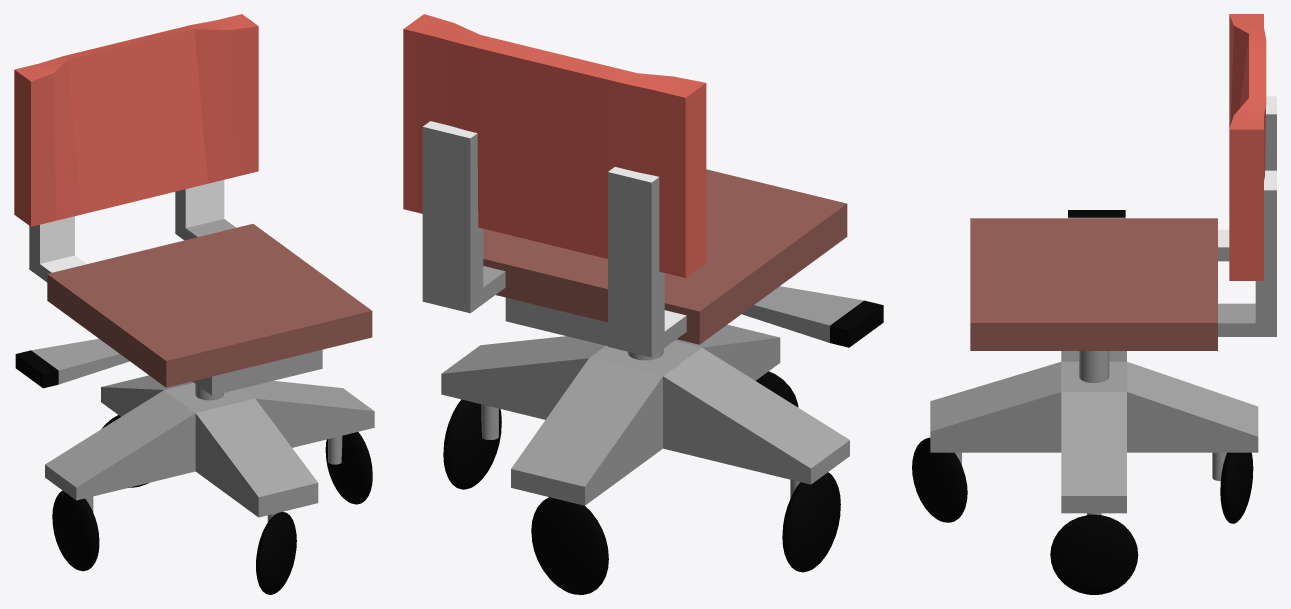
The model's file is DeskChair.fbx.
3 renders of one model, left to right at view 1: azimuth 30°, elevation 25°; view 2: azimuth 150°, elevation 25°; view 3: azimuth 270°, elevation 25°, orthographic. The views are drawn at different scales.
Parts seen in each view (by area): view 1: Cube, Cube.001, Cube.002, Sphere, Sphere.002, Sphere.001; view 2: Cube, Cube.001, Cube.002, Sphere.003, Sphere, Sphere.001, Sphere.002; view 3: Cube, Cube.002, Cube.001, Sphere.001, Sphere.002, Sphere.003, Cylinder.
Boxes of the visible parts, box(x1,y1,x2,y2) form: Cube: box(15, 180, 372, 395); Cube.001: box(14, 14, 258, 226); Cube.002: box(45, 375, 374, 517); Sphere: box(52, 490, 99, 571); Sphere.002: box(256, 511, 296, 594); Sphere.001: box(325, 432, 372, 504); Cube: box(422, 121, 883, 357); Cube.001: box(403, 14, 706, 277); Cube.002: box(441, 324, 849, 505); Sphere.003: box(531, 497, 608, 594); Sphere: box(782, 472, 840, 572); Sphere.001: box(443, 399, 501, 489); Sphere.002: box(756, 371, 798, 407); Cube: box(970, 96, 1276, 350); Cube.002: box(930, 351, 1258, 513); Cube.001: box(1229, 14, 1266, 280); Sphere.001: box(1050, 514, 1138, 594); Sphere.002: box(912, 437, 967, 522); Sphere.003: box(1220, 452, 1253, 523); Cylinder: box(1079, 351, 1109, 383).
Bounding box in the file's own units: 901 × 1144 × 830.
